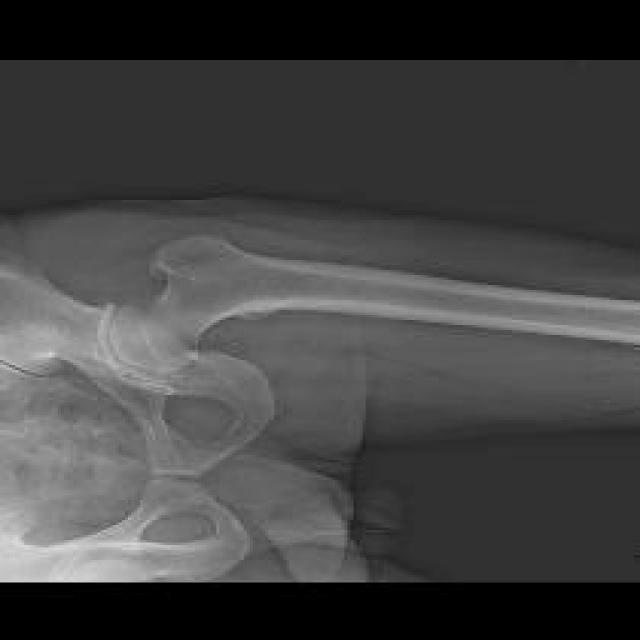normal: (0, 234, 640, 471), (0, 480, 246, 581)
